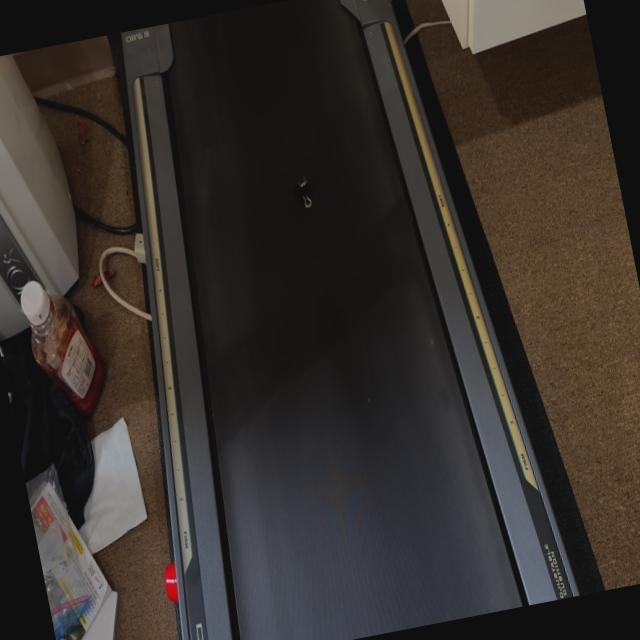Trash: (292, 170, 317, 214)
